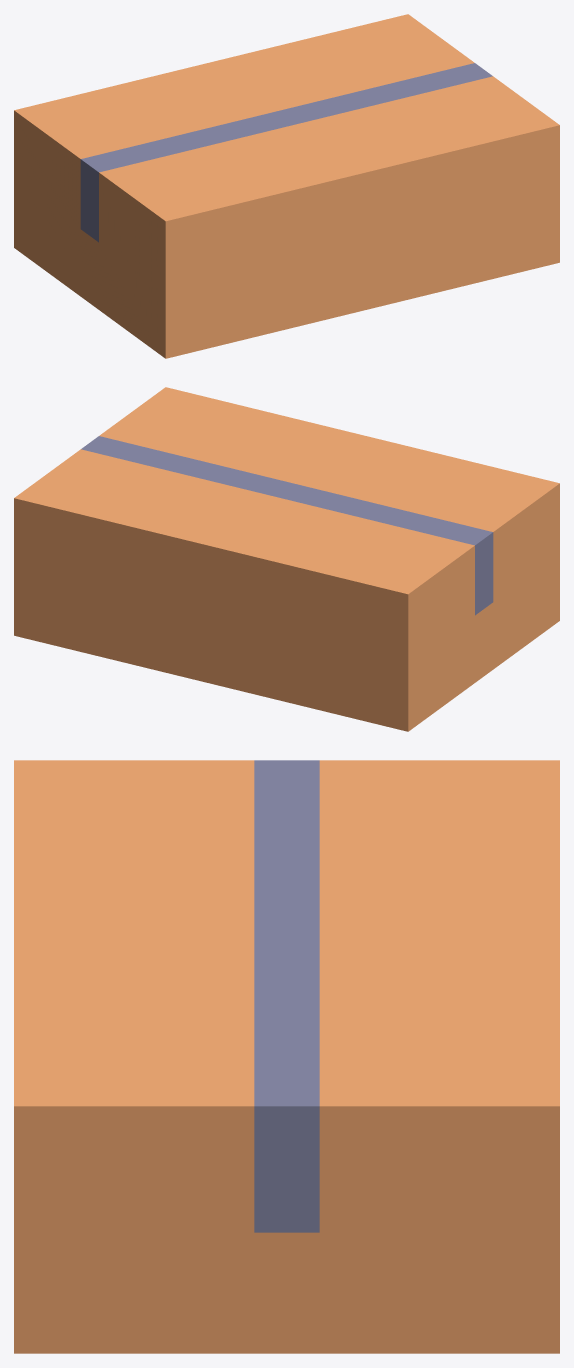
3 renders of one model, top to bottom at view 1: azimuth 30°, elevation 25°; view 2: azimuth 150°, elevation 25°; view 3: azimuth 270°, elevation 25°, orthographic. The views are drawn at different scales.
Visible parts, largest first — view 1: Box2x3, Box2x3.lid.002, Box2x3.lid.001; view 2: Box2x3, Box2x3.lid.001, Box2x3.lid.002; view 3: Box2x3, Box2x3.lid.001, Box2x3.lid.002.
Boxes of the visible parts, box(x1,y1,x2,y2) form: Box2x3: box(14, 113, 559, 358); Box2x3.lid.002: box(90, 69, 559, 223); Box2x3.lid.001: box(14, 14, 483, 168); Box2x3: box(14, 486, 559, 731); Box2x3.lid.001: box(14, 442, 483, 596); Box2x3.lid.002: box(90, 387, 559, 541); Box2x3: box(14, 1111, 559, 1353); Box2x3.lid.001: box(287, 760, 559, 1111); Box2x3.lid.002: box(14, 760, 286, 1111).
Size of the model in its own units: 300 by 100 by 200.
